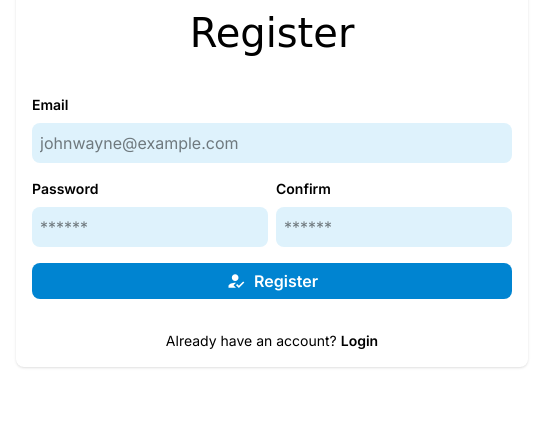
Scenario: Register page › shows an error message when user enters an invalid email
Type "test@" into the field labelled "Email" at point(272, 143), box x1=32 y1=123 x2=512 y2=163
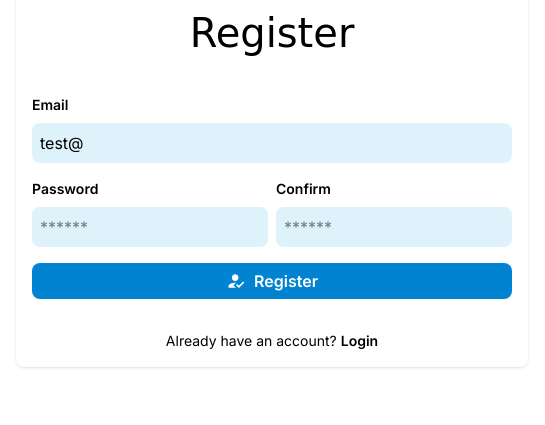
Click the button with test id "register-button" at point(272, 281), box x1=32 y1=263 x2=512 y2=299
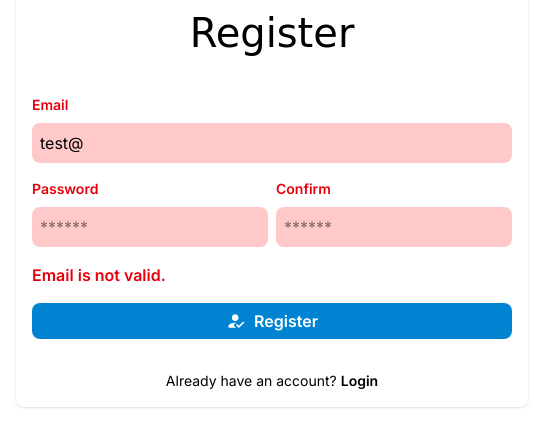
Result: the text "Email is not valid." is shown at x1=32 y1=265 x2=166 y2=285
